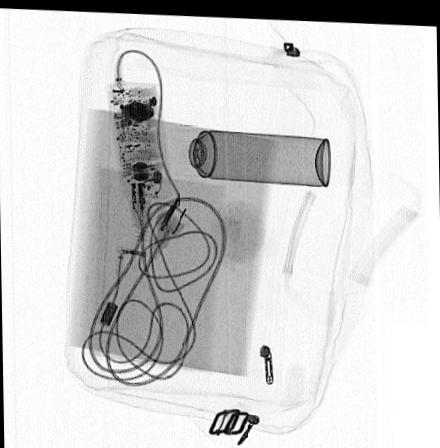Sprayer: (161, 127, 331, 183)
